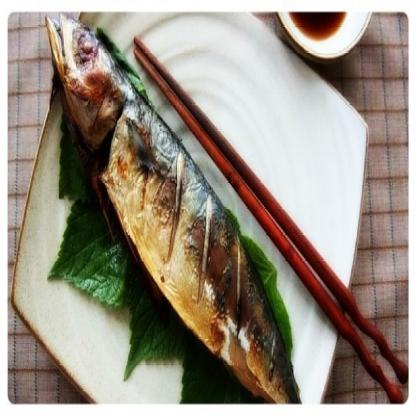Peixe: (34, 9, 302, 408)
